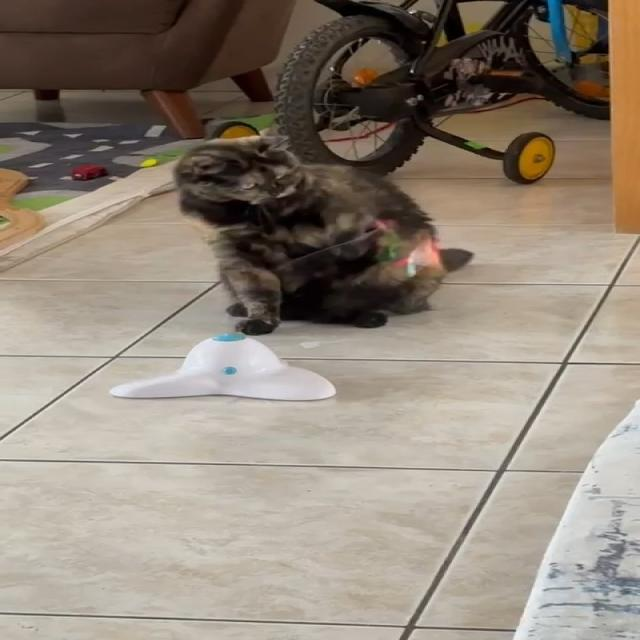authorized: (171, 132, 473, 335)
